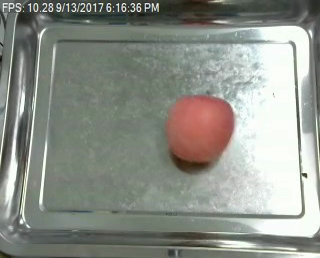Apple: (166, 93, 233, 164)
